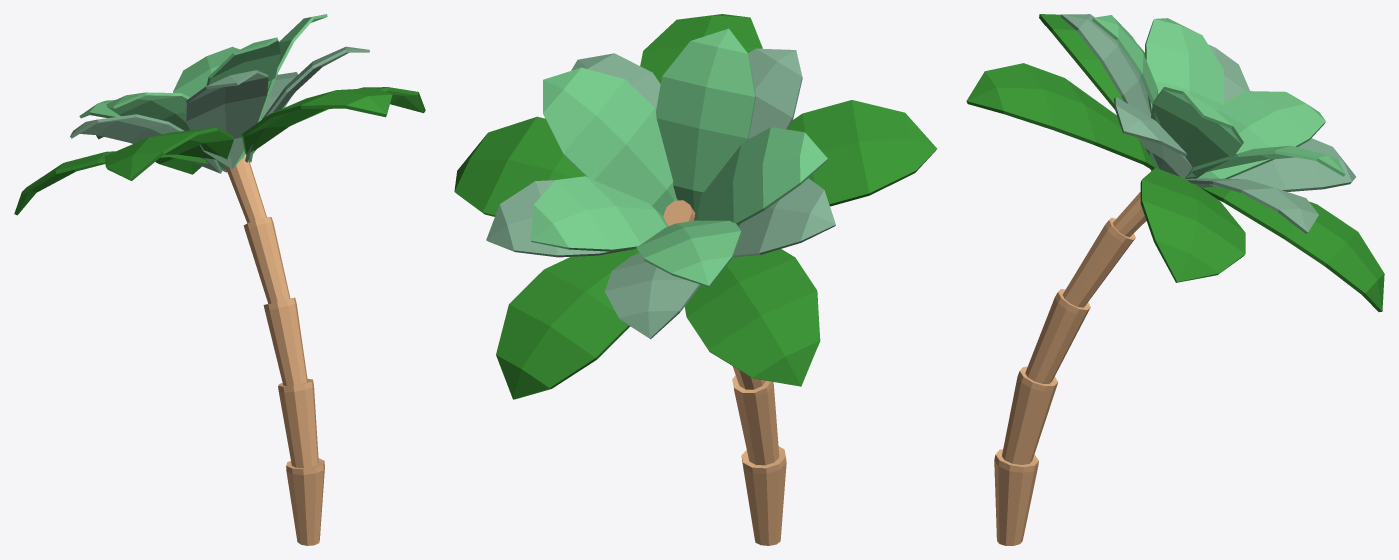
The model's file is Palmerita.fbx.
3 renders of one model, left to right at view 1: azimuth 30°, elevation 25°; view 2: azimuth 150°, elevation 25°; view 3: azimuth 270°, elevation 25°, orthographic. The views are drawn at different scales.
Visible parts, largest first — view 1: Cylinder, Sphere, Sphere.001, Sphere.002; view 2: Sphere, Sphere.002, Sphere.001, Cylinder; view 3: Sphere, Sphere.002, Cylinder, Sphere.001.
Part boxes in pixels (left/top/right/bottom): Cylinder: left=224, top=154, right=324, bottom=545; Sphere: left=14, top=87, right=425, bottom=215; Sphere.001: left=70, top=46, right=369, bottom=173; Sphere.002: left=79, top=14, right=327, bottom=169; Sphere: left=454, top=14, right=936, bottom=399; Sphere.002: left=530, top=28, right=827, bottom=286; Sphere.001: left=486, top=48, right=835, bottom=339; Cylinder: left=663, top=200, right=786, bottom=545; Sphere: left=966, top=14, right=1384, bottom=311; Sphere.002: left=1092, top=15, right=1345, bottom=178; Cylinder: left=994, top=192, right=1146, bottom=545; Sphere.001: left=1061, top=14, right=1355, bottom=233.
Bounding box in the file's own units: 433 × 543 × 395.
